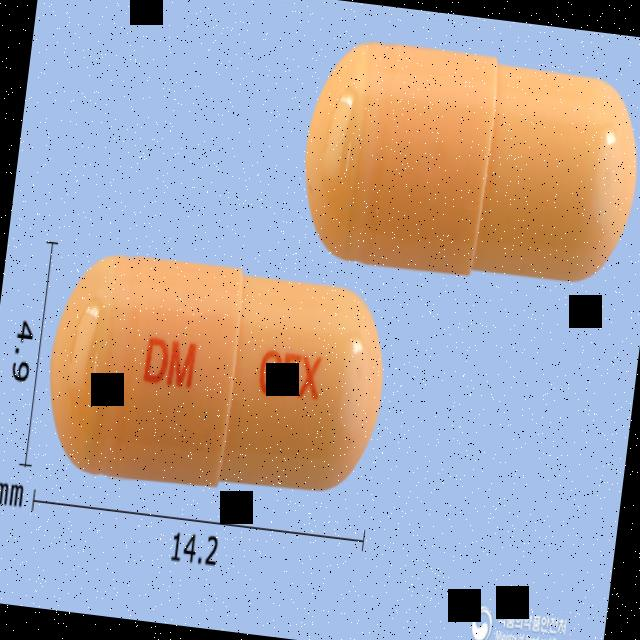Fixima: (37, 244, 396, 506)
